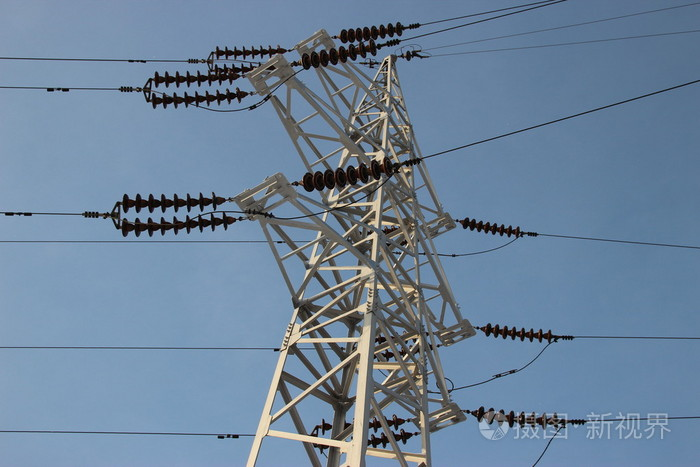insulator: (305, 156, 393, 195), (119, 212, 229, 239), (120, 189, 224, 215), (300, 39, 380, 71), (475, 405, 562, 430), (153, 88, 245, 109), (340, 22, 406, 43), (150, 70, 242, 85), (461, 217, 521, 240), (484, 323, 553, 343), (369, 415, 408, 446), (213, 43, 286, 59), (211, 63, 259, 75)
